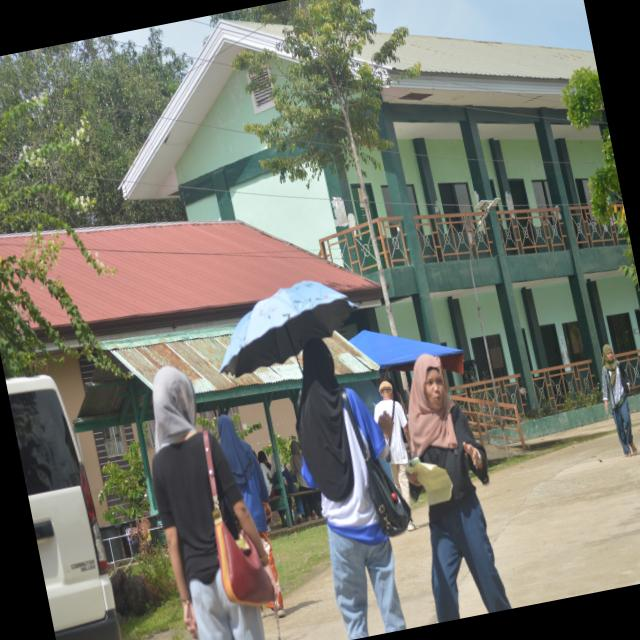person: (297, 339, 405, 639), (153, 366, 264, 639), (409, 355, 510, 621), (218, 415, 285, 617), (374, 381, 411, 506), (602, 345, 637, 457), (291, 441, 310, 491)
